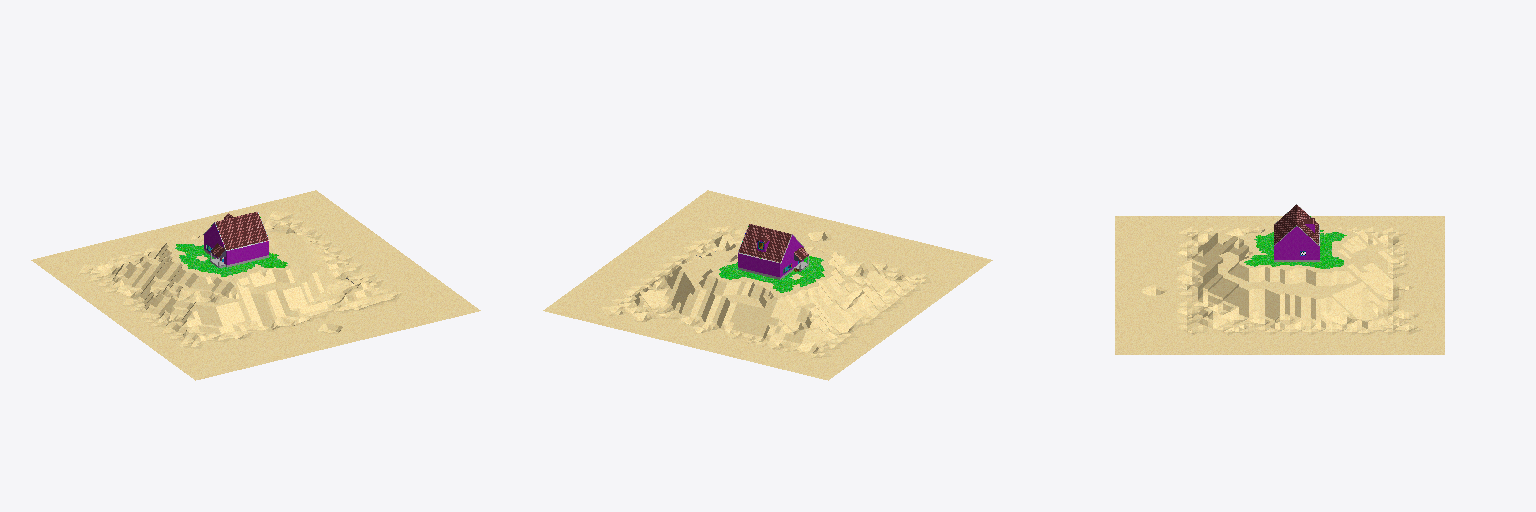
3 views of the same model, side by side, from view 1: azimuth 30°, elevation 25°; view 2: azimuth 150°, elevation 25°; view 3: azimuth 270°, elevation 25° (orthographic).
Visible parts, largest first — view 1: slot241, slot237, slot242, slot236; view 2: slot241, slot237, slot242, slot236; view 3: slot241, slot242, slot236, slot237.
Part boxes in pixels (left/top/right/bottom): slot241: left=31, top=190, right=480, bottom=380; slot237: left=211, top=212, right=268, bottom=257; slot242: left=175, top=244, right=287, bottom=276; slot236: left=204, top=219, right=268, bottom=264; slot241: left=543, top=190, right=992, bottom=380; slot237: left=738, top=224, right=808, bottom=262; slot242: left=719, top=256, right=824, bottom=292; slot236: left=738, top=235, right=803, bottom=277; slot241: left=1115, top=216, right=1444, bottom=354; slot242: left=1244, top=230, right=1346, bottom=268; slot236: left=1274, top=224, right=1319, bottom=259; slot237: left=1274, top=205, right=1318, bottom=244.
Bounding box in the file's own units: 1024 × 246 × 1024.
Materials: 29 (24 with a texture image).